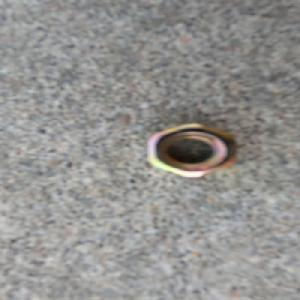Nut: (143, 122, 239, 180)
